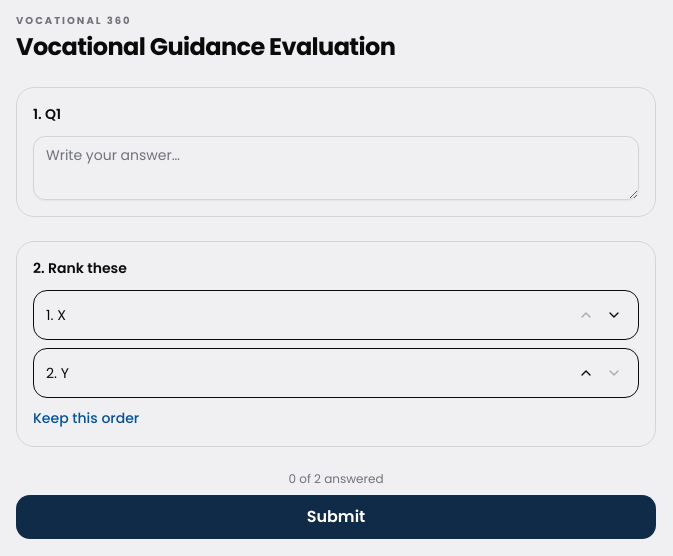
Test: ranking items count as answered only after interaction (#410) › counts the ranking after a reorder
Expected: the text "Rank these" is shown, [48, 258, 127, 278]
Click the button named "down": (614, 315) [602, 303, 626, 327]
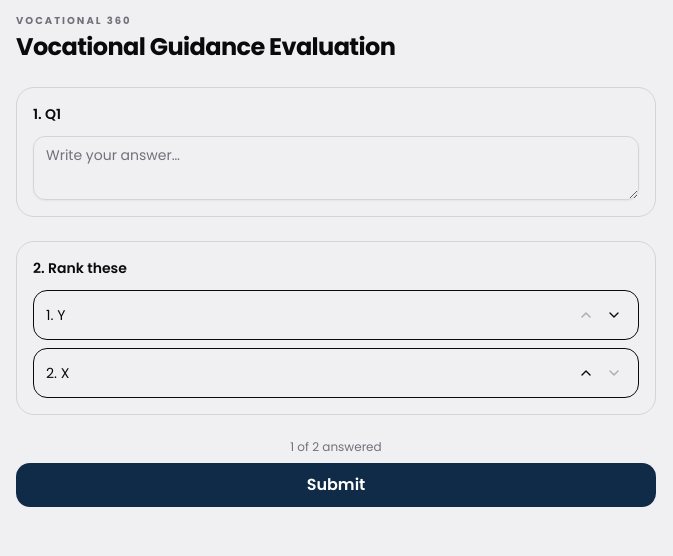
Result: the text "1 of 2 answered" is shown at [290, 438, 382, 455]
